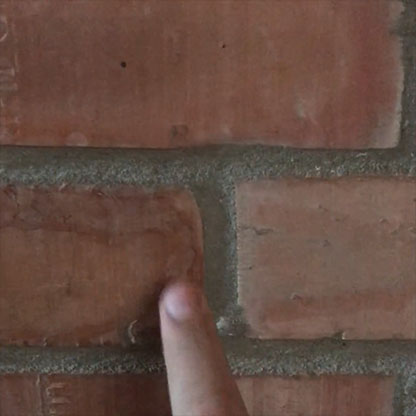fingertip: (153, 275, 217, 335)
